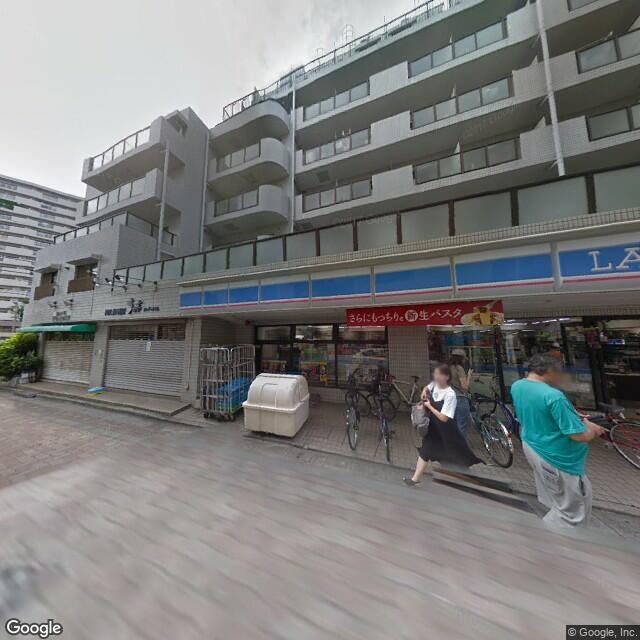lawson: (181, 229, 639, 321)
